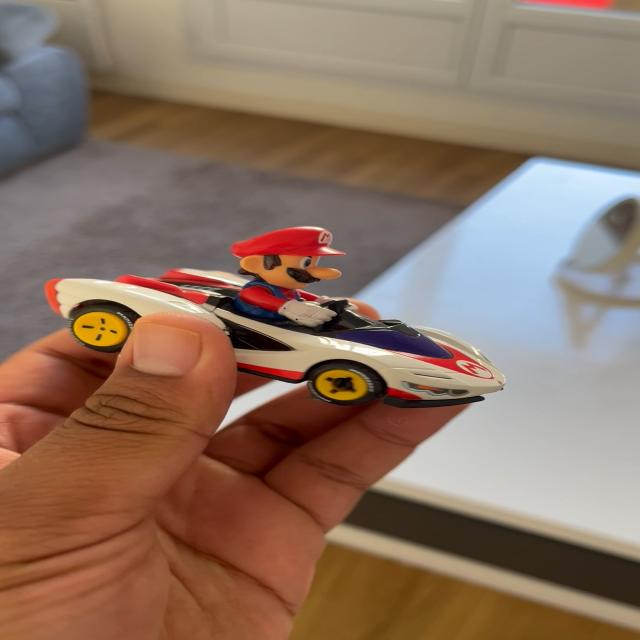mario: (38, 215, 541, 414)
